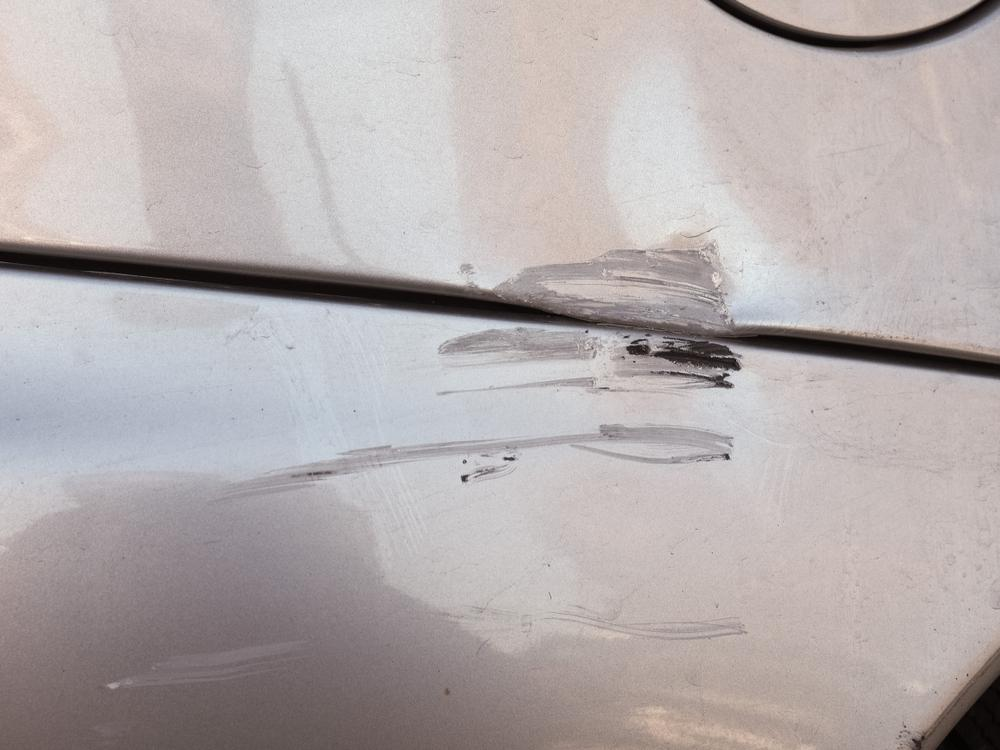scratch: (191, 315, 762, 505), (467, 236, 742, 336), (413, 587, 762, 650), (97, 632, 323, 684)
